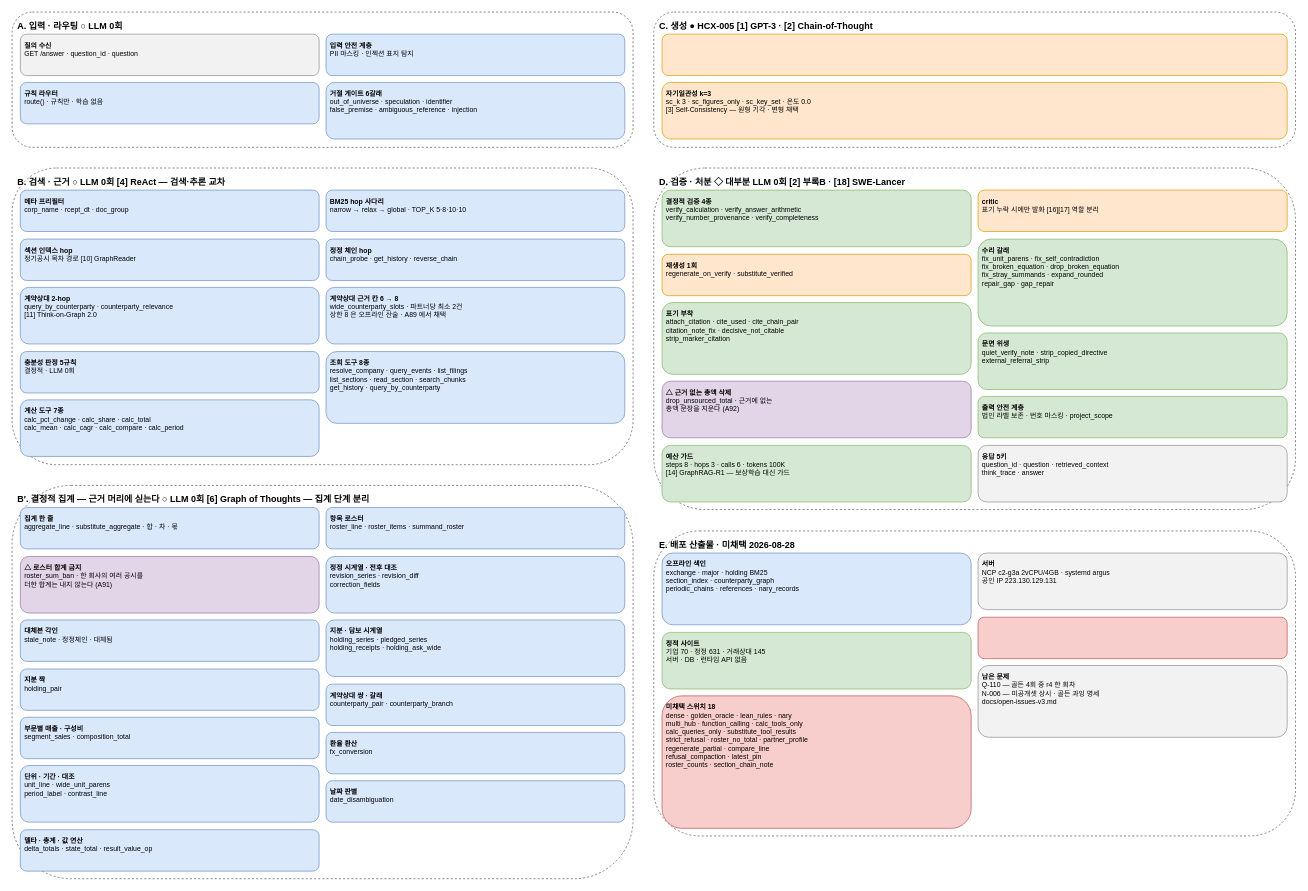
The diagram is 1308 pixels wide and 891 high, and some of its shapes have lost their labels. The centre of each missing label's shape, as x and y in pixels:
답변 생성 온도 0.0 · 난이도 상이면 CoT · think_trace [2]: the point at 974,54
배포 제외 원본 5.55GB · 임베딩 API: the point at 1132,638
